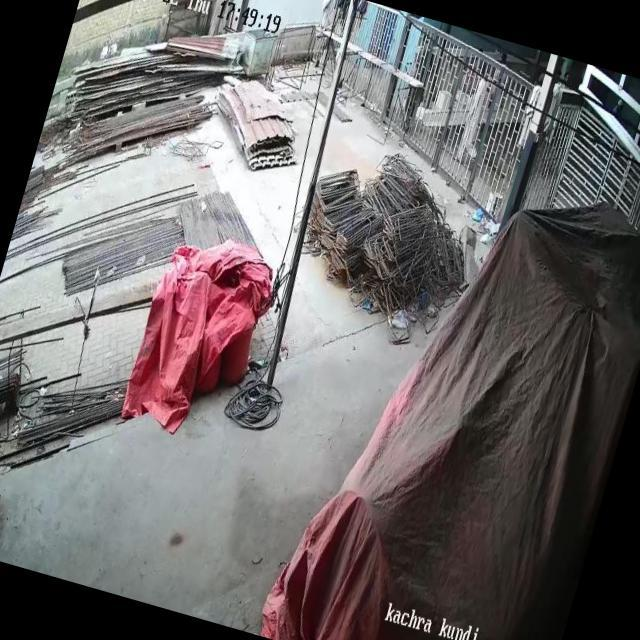person: (448, 64, 500, 171)
